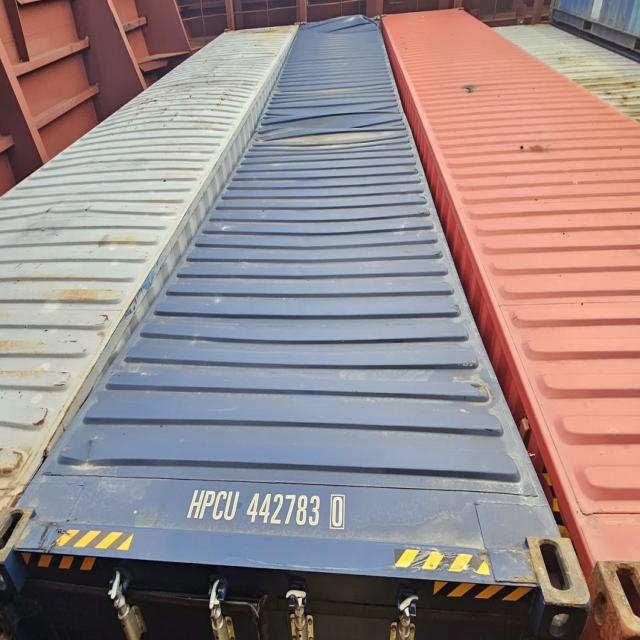dent: (250, 107, 411, 163), (305, 10, 393, 38), (72, 435, 115, 473)
